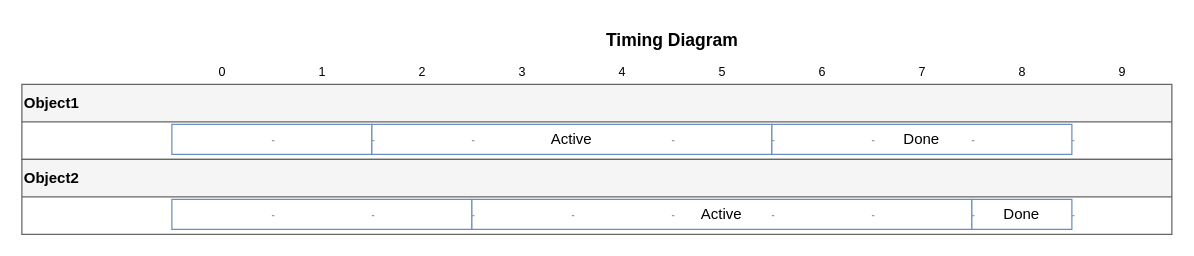
Image size: 1194x256. Some labels were removed from this diagram. The centre of each missing label's shape, as x and y in pixels:
Idle: (x=271, y=138)
Wait: (x=321, y=213)
